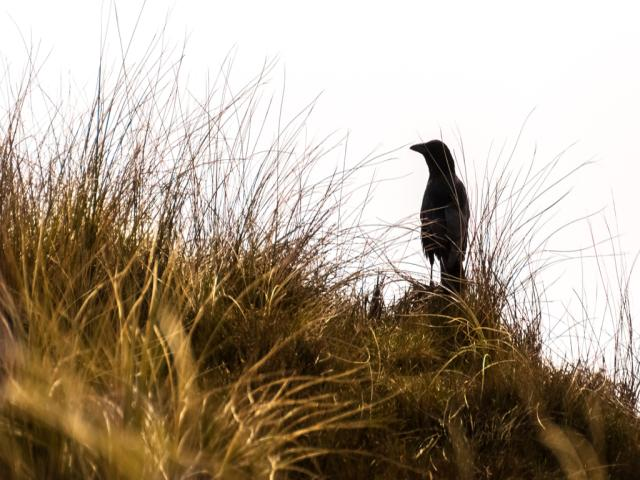Bird: (406, 131, 473, 295)
